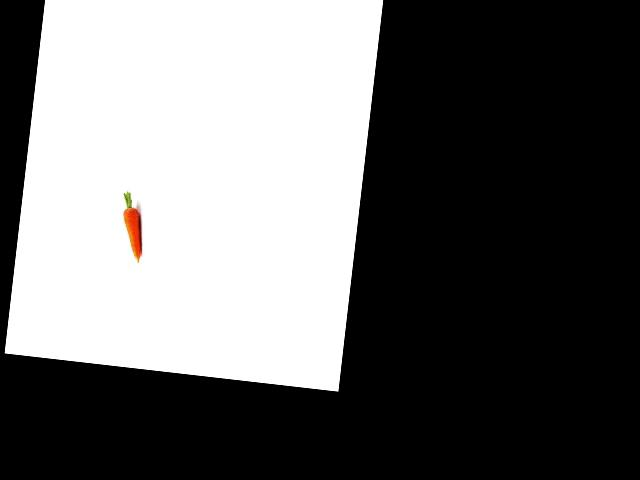carrot: (111, 200, 152, 265)
